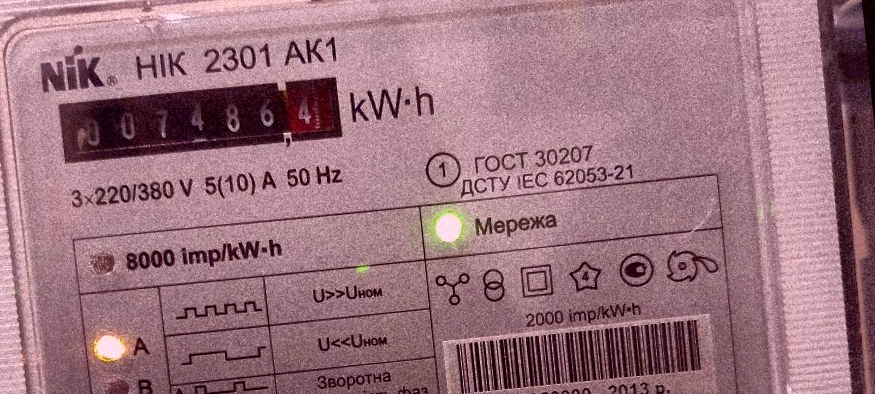0: (80, 113, 103, 149), (116, 107, 138, 142)
4: (185, 97, 206, 134), (293, 92, 313, 127)
6: (256, 95, 278, 129)
7: (148, 105, 175, 140)
8: (222, 100, 243, 136)
screen: (48, 63, 352, 176)
